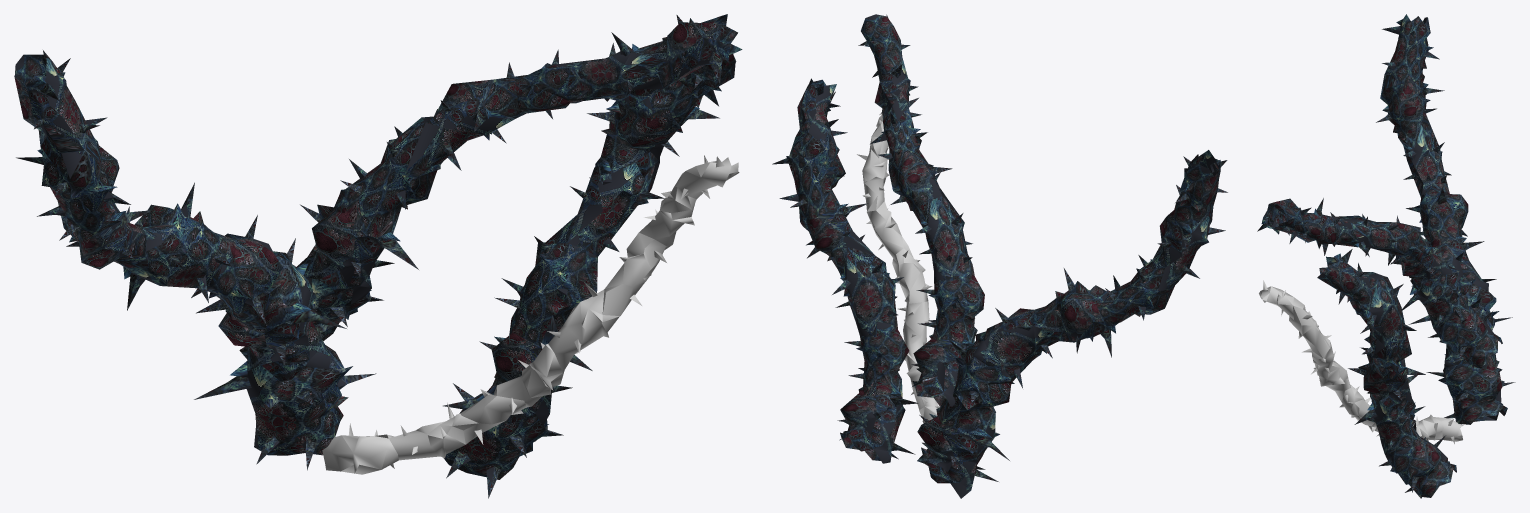
Rendered from 02_05_Makaizyu_02.fbx.
3 views of the same model, side by side, from view 1: azimuth 30°, elevation 25°; view 2: azimuth 150°, elevation 25°; view 3: azimuth 270°, elevation 25° (orthographic). The views are drawn at different scales.
Visible parts, largest first — view 1: LODGroup_3_MainMesh_1_SubMesh_1, LODGroup_3_MainMesh_1_SubMesh_2; view 2: LODGroup_3_MainMesh_1_SubMesh_1, LODGroup_3_MainMesh_1_SubMesh_2; view 3: LODGroup_3_MainMesh_1_SubMesh_1, LODGroup_3_MainMesh_1_SubMesh_2.
Boxes of the visible parts, box(x1,y1,x2,y2) form: LODGroup_3_MainMesh_1_SubMesh_1: box(14, 14, 742, 498); LODGroup_3_MainMesh_1_SubMesh_2: box(322, 155, 739, 474); LODGroup_3_MainMesh_1_SubMesh_1: box(772, 14, 1227, 498); LODGroup_3_MainMesh_1_SubMesh_2: box(857, 112, 940, 423); LODGroup_3_MainMesh_1_SubMesh_1: box(1257, 14, 1515, 498); LODGroup_3_MainMesh_1_SubMesh_2: box(1259, 280, 1463, 443).
Bounding box in the file's own units: 1688 × 1316 × 897.
